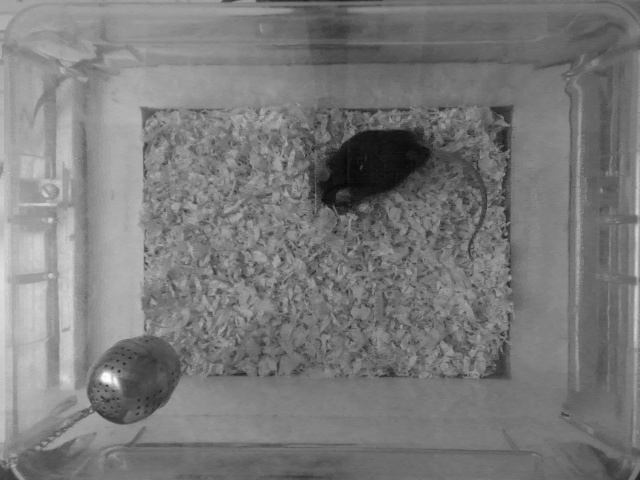mice: (308, 124, 494, 261)
